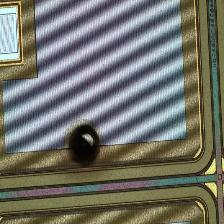PARTICLE: (59, 120, 111, 172)
